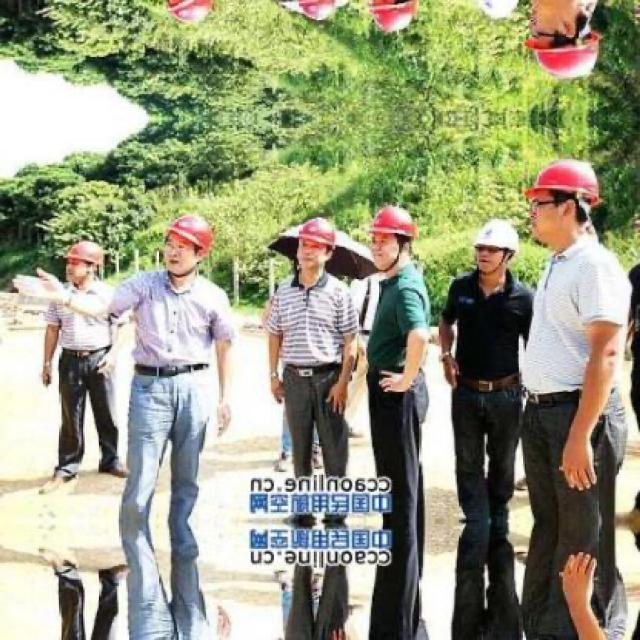con casco: (426, 190, 559, 315), (517, 134, 620, 279), (262, 180, 358, 303), (133, 200, 230, 294), (353, 188, 443, 284), (37, 222, 120, 313)
